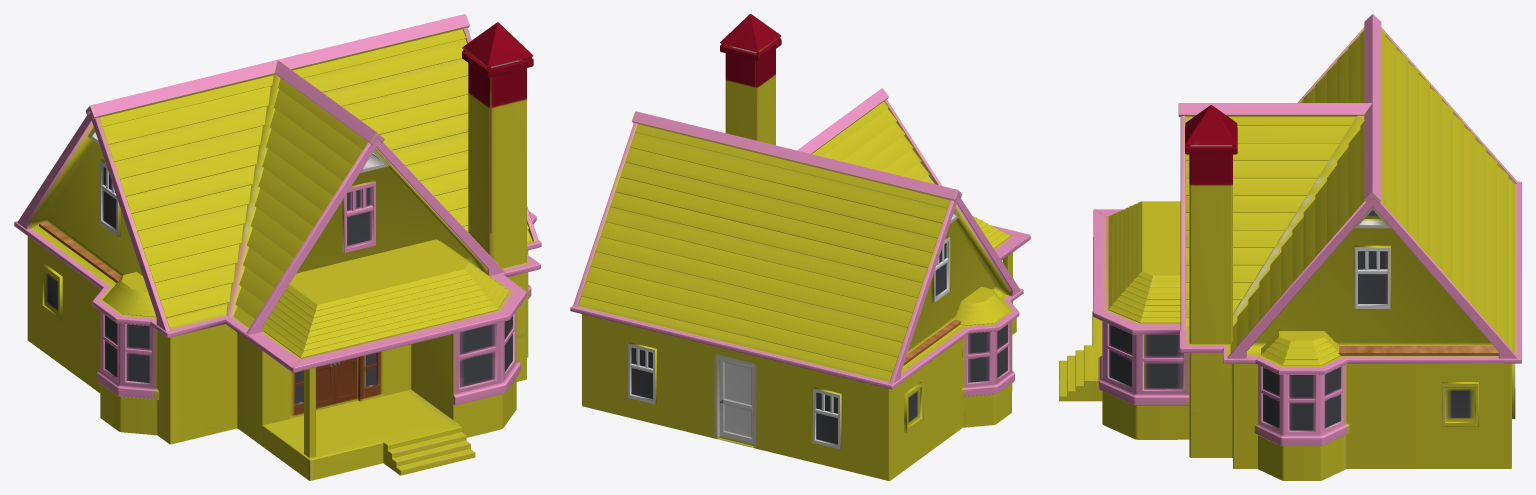
The model's file is Home.obj.
3 views of the same model, side by side, from view 1: azimuth 30°, elevation 25°; view 2: azimuth 150°, elevation 25°; view 3: azimuth 270°, elevation 25° (orthographic). The views are drawn at different scales.
Visible parts, largest first — view 1: node_id5 root, pCube1; view 2: node_id5 root, pCube1; view 3: node_id5 root, pCube1.
Part boxes in pixels (x1,y1,x2,y2): node_id5 root: (14, 14, 541, 480); pCube1: (39, 221, 121, 282); node_id5 root: (570, 14, 1030, 480); pCube1: (903, 319, 960, 365); node_id5 root: (1059, 14, 1521, 480); pCube1: (1338, 346, 1498, 355).
Bounding box in the file's own units: 17.61 × 14.13 × 17.24.
2 materials, 2 textured.
